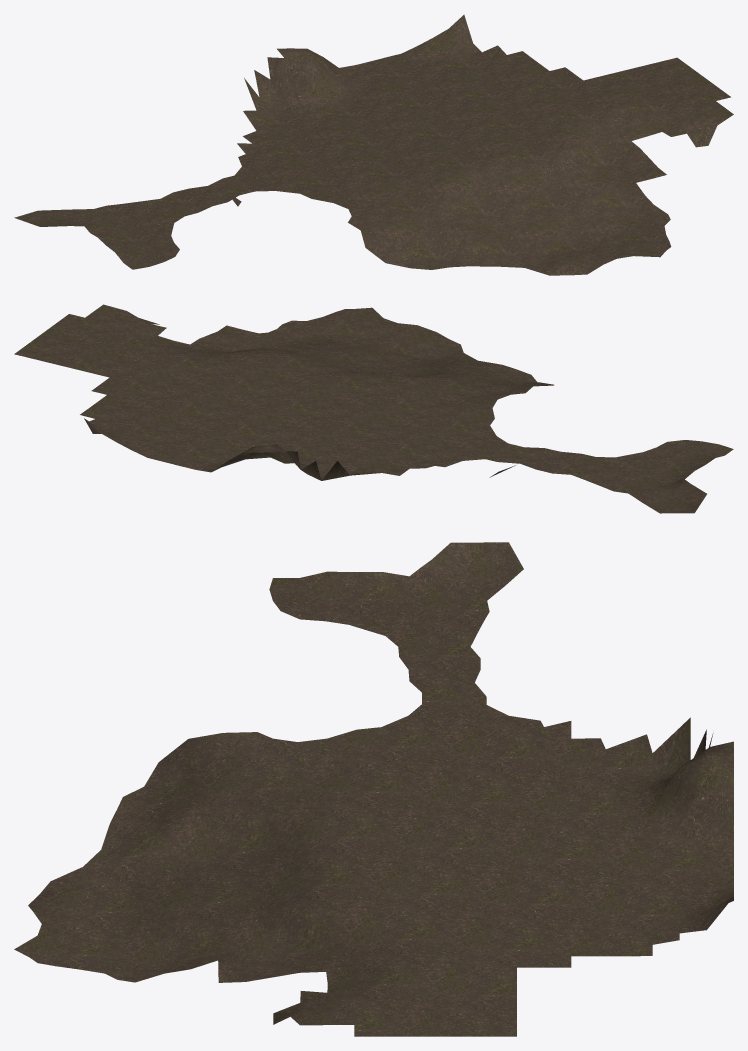
Rendered from terrain_base10.fbx.
The picture shows the model from 3 angles, top to bottom: view 1: azimuth 30°, elevation 25°; view 2: azimuth 150°, elevation 25°; view 3: azimuth 270°, elevation 25°; orthographic projection. The views are drawn at different scales.
Visible parts, largest first — view 1: Material_#238683241/New_terrain_shadow; view 2: Material_#238683241/New_terrain_shadow; view 3: Material_#238683241/New_terrain_shadow.
Part boxes in pixels (<box>): Material_#238683241/New_terrain_shadow: <box>14,14,733,275</box>; Material_#238683241/New_terrain_shadow: <box>14,304,733,513</box>; Material_#238683241/New_terrain_shadow: <box>14,542,733,1036</box>.
Bounding box in the file's own units: 106 × 11.03 × 66.37.
